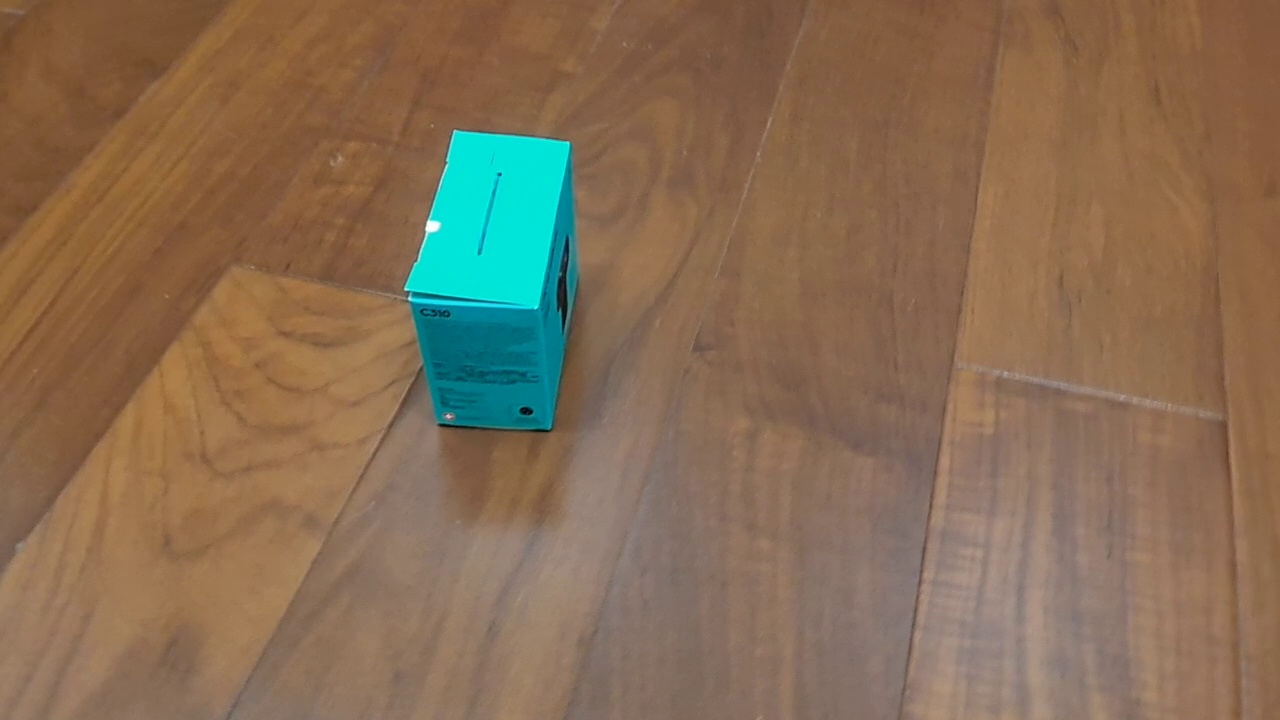webcam: (400, 127, 582, 434)
